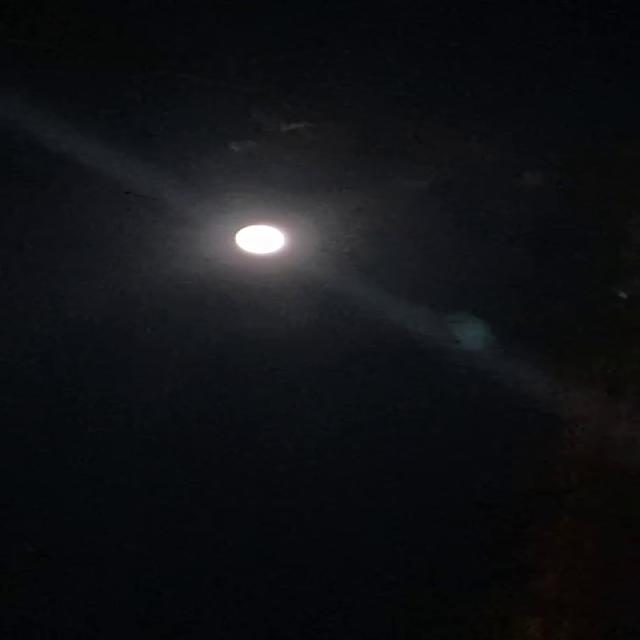moon: (197, 204, 324, 275)
